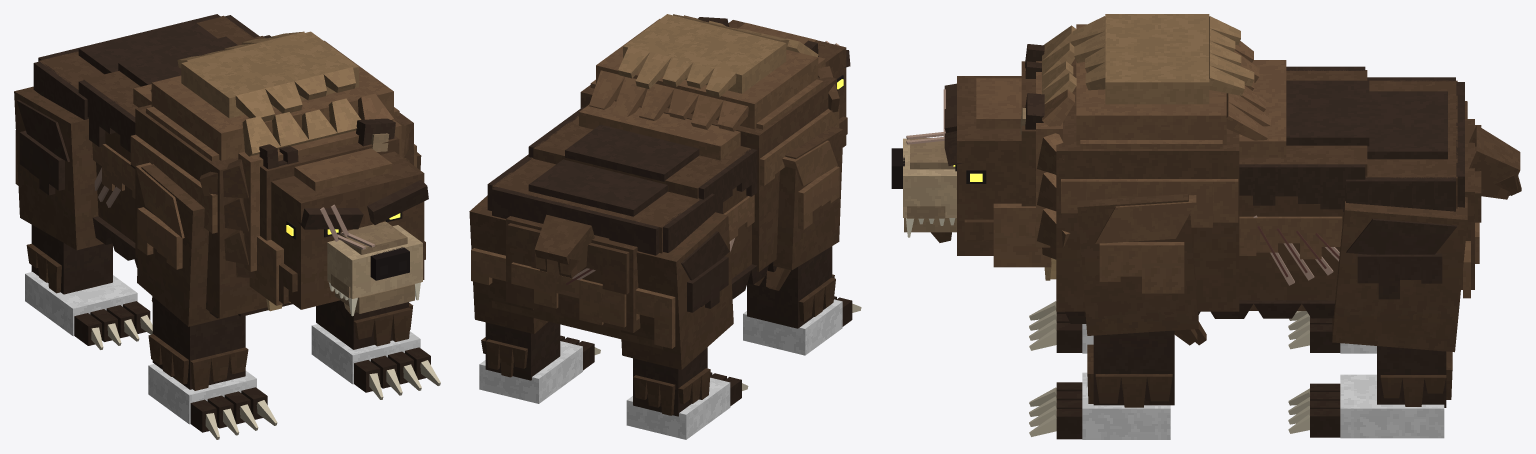
Rendered from fmob_bear.glb.
3 renders of one model, left to right at view 1: azimuth 30°, elevation 25°; view 2: azimuth 150°, elevation 25°; view 3: azimuth 270°, elevation 25°, orthographic. The views are drawn at different scales.
Parts seen in each view (by area): view 1: fmob_bear, head, leg_fr, leg_br, leg_fl, jaw; view 2: fmob_bear, leg_br, leg_fr, leg_bl, sway_tail, head; view 3: fmob_bear, leg_bl, leg_fl, head, sway_tail, leg_fr, leg_br, jaw.
Part boxes in pixels (left/top/right/bottom): fmob_bear: left=33, top=14, right=416, bottom=318; head: left=236, top=118, right=428, bottom=316; leg_fr: left=136, top=162, right=277, bottom=439; leg_br: left=14, top=86, right=152, bottom=349; leg_fl: left=311, top=152, right=440, bottom=399; jaw: left=335, top=284, right=414, bottom=313; fmob_bear: left=487, top=14, right=839, bottom=348; leg_br: left=621, top=212, right=748, bottom=439; leg_fr: left=743, top=126, right=861, bottom=355; leg_bl: left=469, top=195, right=600, bottom=403; sway_tail: left=534, top=214, right=594, bottom=279; head: left=698, top=17, right=850, bottom=147; fmob_bear: left=1021, top=14, right=1481, bottom=323; leg_bl: left=1288, top=197, right=1470, bottom=438; leg_fl: left=1029, top=194, right=1206, bottom=439; head: left=891, top=44, right=1056, bottom=267; sway_tail: left=1469, top=125, right=1521, bottom=199; leg_fr: left=1029, top=301, right=1093, bottom=353; leg_br: left=1288, top=101, right=1467, bottom=353; jaw: left=904, top=218, right=956, bottom=242.
Size of the model in its own units: 1.56 by 1.9 by 3.28.
Materials: 17 (9 with a texture image).
